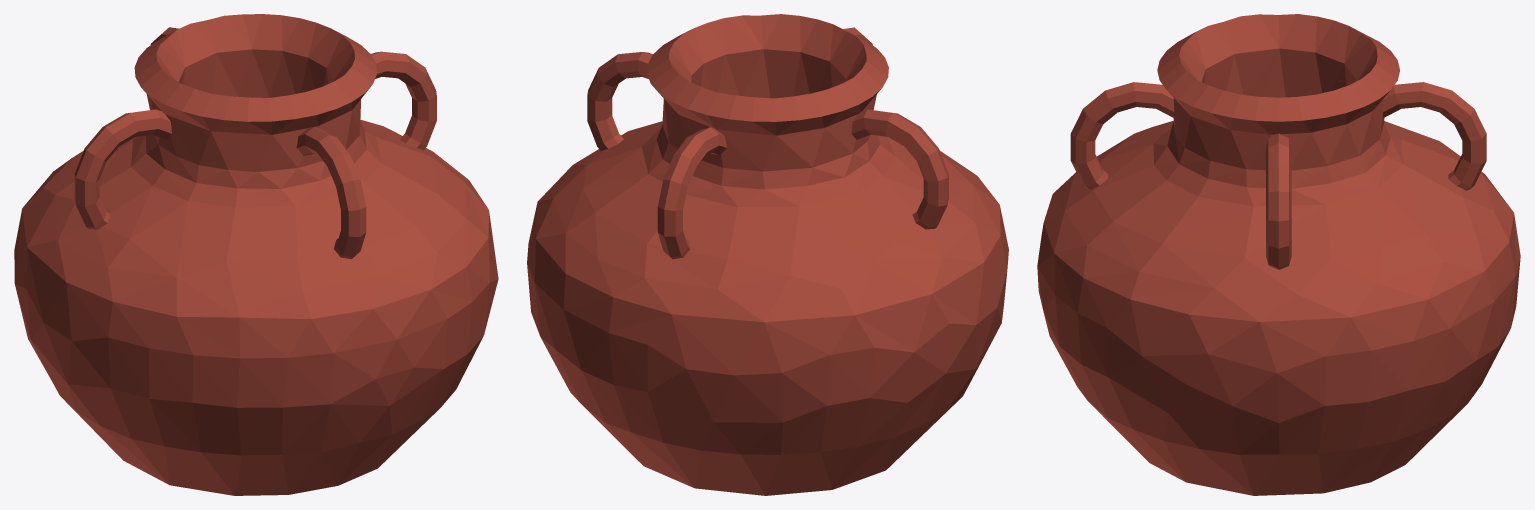
Rendered from Pottery 7_3b.fbx.
3 views of the same model, side by side, from view 1: azimuth 30°, elevation 25°; view 2: azimuth 150°, elevation 25°; view 3: azimuth 270°, elevation 25° (orthographic).
Parts seen in each view (by area): view 1: Pottery 7_3.002, Pottery 7_3.005, Pottery 7_3.006, Pottery 7_3.001, Pottery 7_3.007, Pottery 7_3.009, Pottery 7_3b, Pottery 7_3.003, Pottery 7_3.004, Pottery 7_3.008; view 2: Pottery 7_3.004, Pottery 7_3.008, Pottery 7_3.005, Pottery 7_3b, Pottery 7_3.009, Pottery 7_3.003, Pottery 7_3.002, Pottery 7_3.007; view 3: Pottery 7_3.003, Pottery 7_3b, Pottery 7_3.004, Pottery 7_3.007, Pottery 7_3.002, Pottery 7_3.005, Pottery 7_3.006, Pottery 7_3.008.
Part boxes in pixels (x1=…): Pottery 7_3.002: x1=108, y1=87, x2=379, y2=358; Pottery 7_3.005: x1=22, y1=38, x2=211, y2=282; Pottery 7_3.006: x1=282, y1=277, x2=472, y2=454; Pottery 7_3.001: x1=100, y1=348, x2=287, y2=465; Pottery 7_3.007: x1=318, y1=58, x2=489, y2=301; Pottery 7_3.009: x1=14, y1=247, x2=149, y2=425; Pottery 7_3b: x1=65, y1=238, x2=498, y2=495; Pottery 7_3.003: x1=270, y1=18, x2=498, y2=276; Pottery 7_3.004: x1=132, y1=14, x2=299, y2=139; Pottery 7_3.008: x1=14, y1=139, x2=132, y2=282; Pottery 7_3.004: x1=527, y1=59, x2=799, y2=332; Pottery 7_3.008: x1=609, y1=207, x2=931, y2=422; Pottery 7_3.005: x1=762, y1=54, x2=984, y2=314; Pottery 7_3b: x1=527, y1=205, x2=957, y2=495; Pottery 7_3.009: x1=870, y1=223, x2=1008, y2=437; Pottery 7_3.003: x1=538, y1=18, x2=739, y2=201; Pottery 7_3.002: x1=771, y1=16, x2=1008, y2=248; Pottery 7_3.007: x1=724, y1=14, x2=800, y2=98; Pottery 7_3.003: x1=1130, y1=90, x2=1381, y2=405; Pottery 7_3b: x1=1059, y1=276, x2=1516, y2=495; Pottery 7_3.004: x1=1334, y1=34, x2=1515, y2=340; Pottery 7_3.007: x1=1054, y1=64, x2=1230, y2=328; Pottery 7_3.002: x1=1053, y1=22, x2=1243, y2=210; Pottery 7_3.005: x1=1224, y1=14, x2=1427, y2=136; Pottery 7_3.006: x1=1037, y1=194, x2=1077, y2=384; Pottery 7_3.008: x1=1384, y1=121, x2=1520, y2=303.
Bounding box in the file's own units: 53.28 × 45.94 × 52.99.
